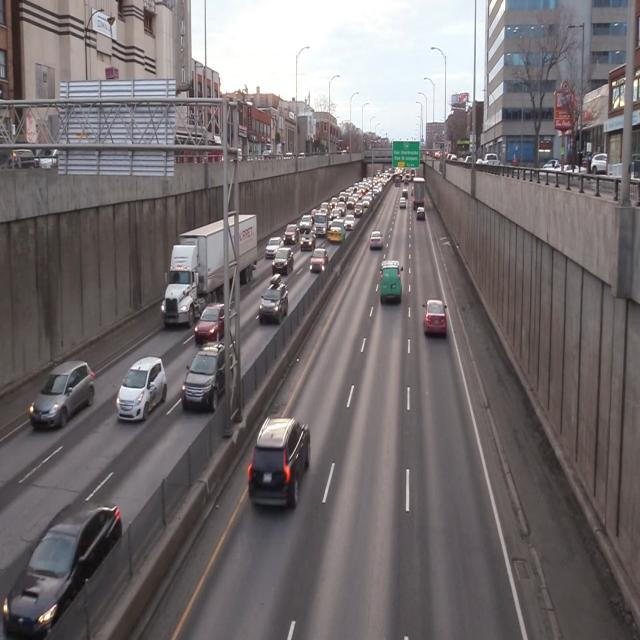Car: (3, 500, 126, 640), (161, 211, 259, 330), (248, 412, 312, 511), (28, 356, 98, 438), (115, 356, 169, 430), (182, 340, 233, 416), (192, 302, 235, 348), (258, 274, 290, 328), (378, 261, 406, 306), (422, 300, 448, 337), (272, 246, 294, 276), (310, 248, 329, 275), (264, 236, 284, 259), (284, 222, 300, 245), (370, 231, 384, 251), (414, 208, 428, 223)
